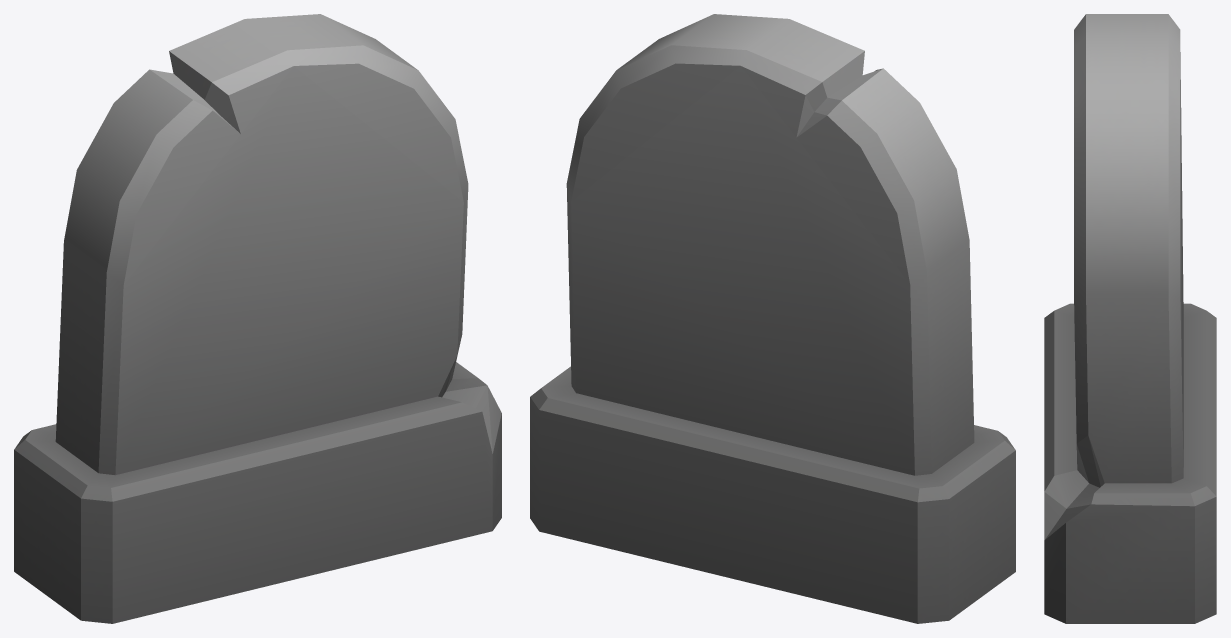
Rendered from TombstoneDamaged2.fbx.
3 views of the same model, side by side, from view 1: azimuth 30°, elevation 25°; view 2: azimuth 150°, elevation 25°; view 3: azimuth 270°, elevation 25° (orthographic). The views are drawn at different scales.
Visible parts, largest first — view 1: TombstoneDamaged2; view 2: TombstoneDamaged2; view 3: TombstoneDamaged2.
Part boxes in pixels (left/top/right/bottom): TombstoneDamaged2: left=14, top=14, right=501, bottom=623; TombstoneDamaged2: left=530, top=14, right=1015, bottom=623; TombstoneDamaged2: left=1044, top=14, right=1216, bottom=623.
Bounding box in the file's own units: 1.16 × 1.35 × 0.4277.
Materials: 1 (1 with a texture image).
